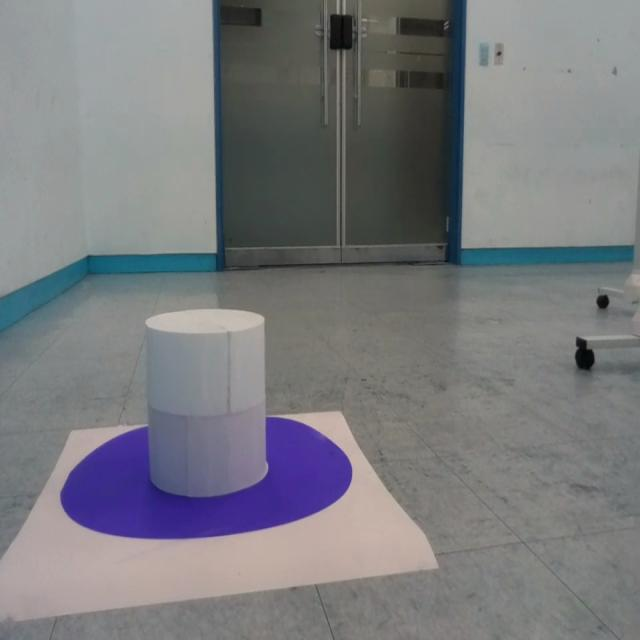cylinder: (144, 308, 268, 497)
